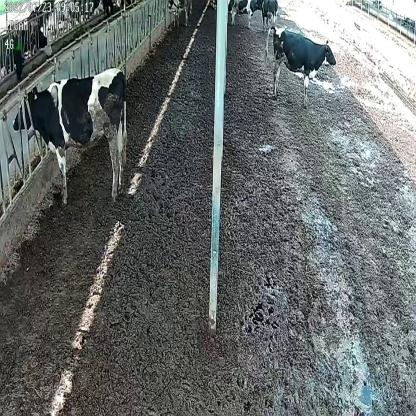cow: (13, 65, 129, 209), (264, 25, 338, 106), (230, 0, 260, 28), (262, 0, 280, 30)
